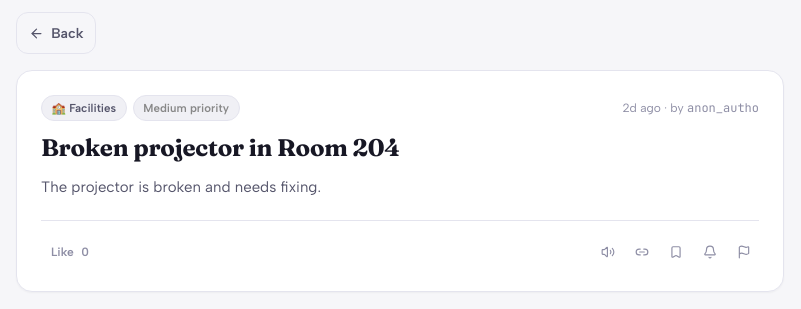
it: PostDetail — read aloud › starts reading and shows the stop control
Expected: the heading "Broken projector in Room 204" is shown, [41,134,400,162]
Click the button named "Read aloud". click: (608, 252)
box: [593,237,623,267]
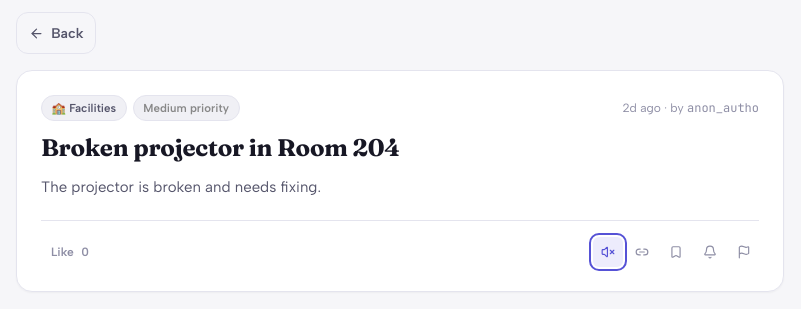
Expected: the button named "Stop reading" is shown, [593,237,623,267]
